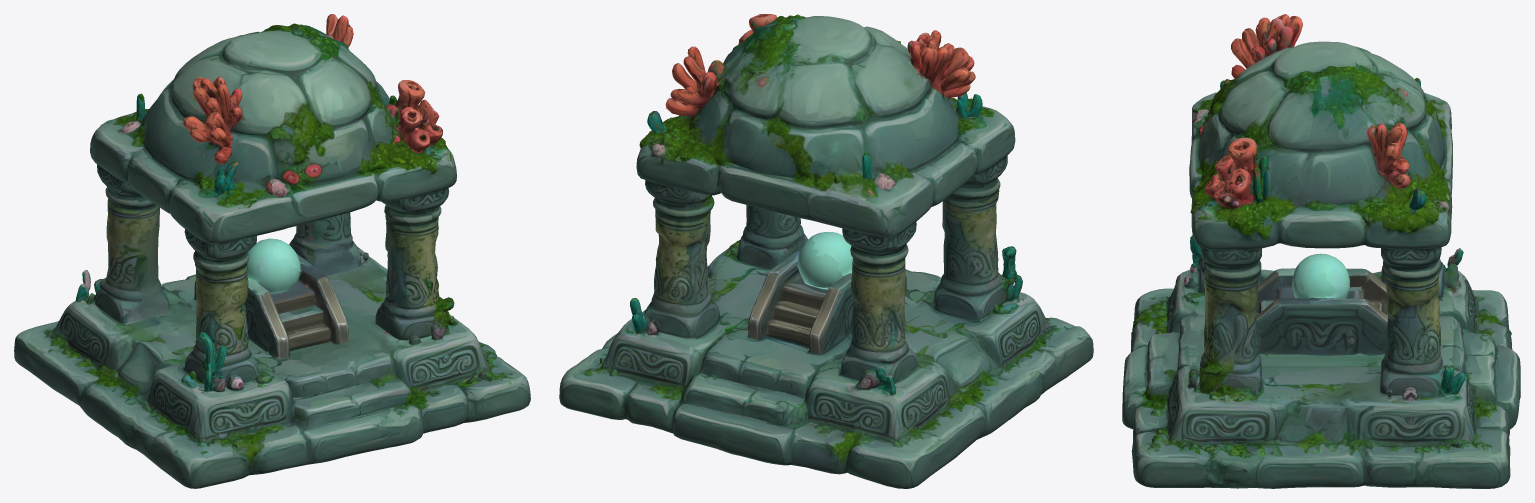
File: ocean_sunken_shrine.glb
3 views of the same model, side by side, from view 1: azimuth 30°, elevation 25°; view 2: azimuth 150°, elevation 25°; view 3: azimuth 270°, elevation 25° (orthographic). The views are drawn at different scales.
Visible parts, largest first — view 1: textured_mesh.obj; view 2: textured_mesh.obj; view 3: textured_mesh.obj.
Boxes of the visible parts, box(x1,y1,x2,y2) form: textured_mesh.obj: box(14, 14, 530, 488); textured_mesh.obj: box(559, 14, 1093, 488); textured_mesh.obj: box(1122, 14, 1520, 488).
Bounding box in the file's own units: 1.99 × 1.85 × 1.89.
Materials: 1 (1 with a texture image).
